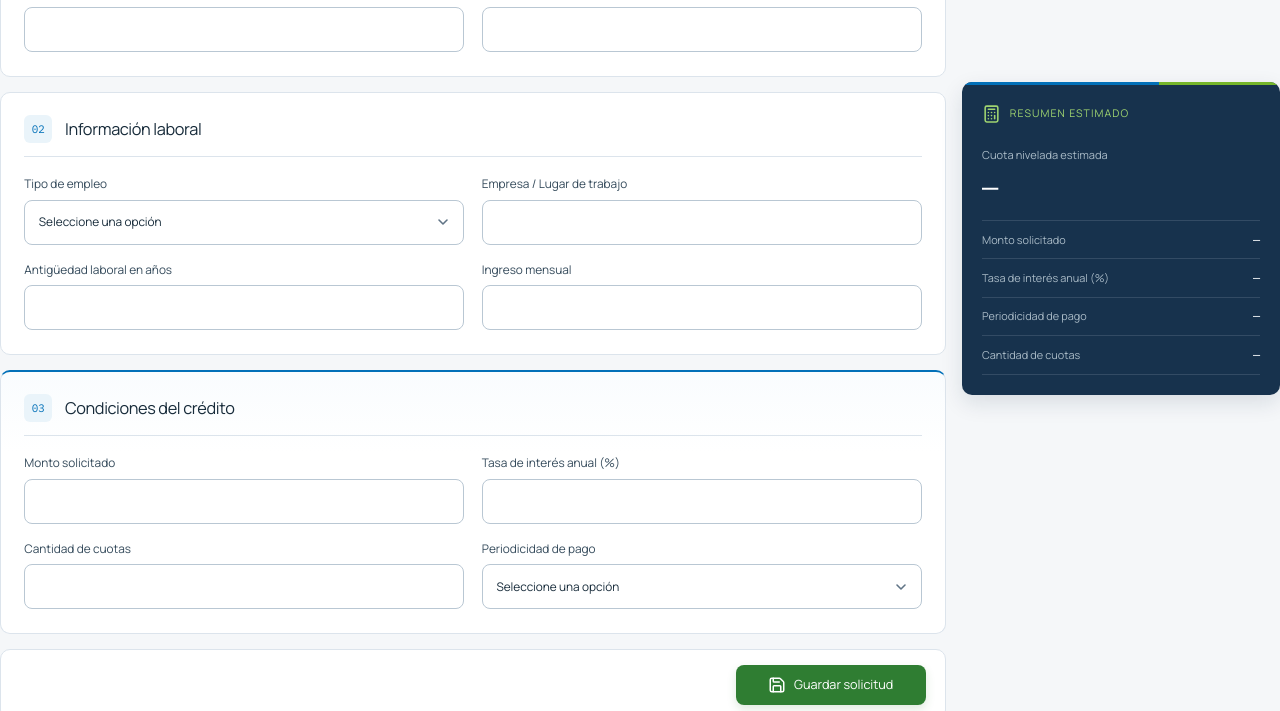
Test: validation errors clear after correction › relocalizes an existing birth date error when switching ES to EN and back
(page scrolled)
Step 1. Click the button "Guardar solicitud" → (831, 685), box [736,665,926,705]
(page scrolled)
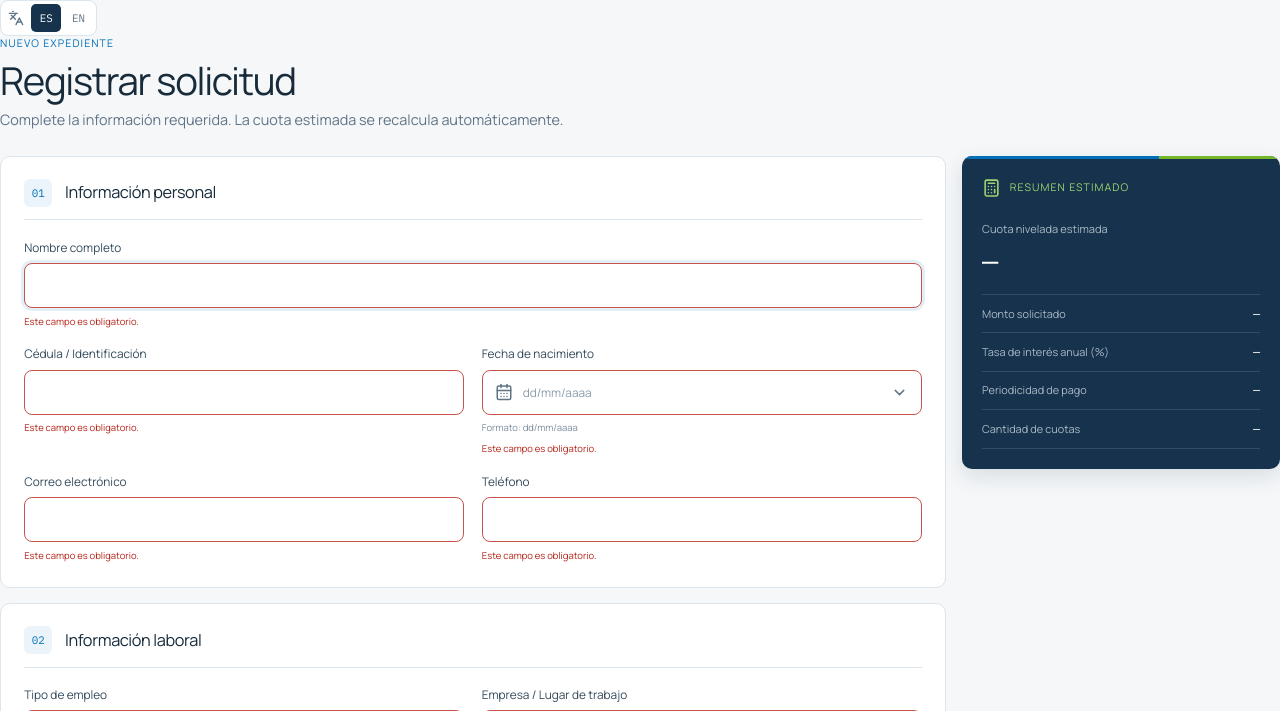
Expected: the text with id "birth-date-error" reads "Este campo es obligatorio.", [482,442,596,455]
Step 2. Click the button "EN" → (79, 18), box [64,4,94,32]
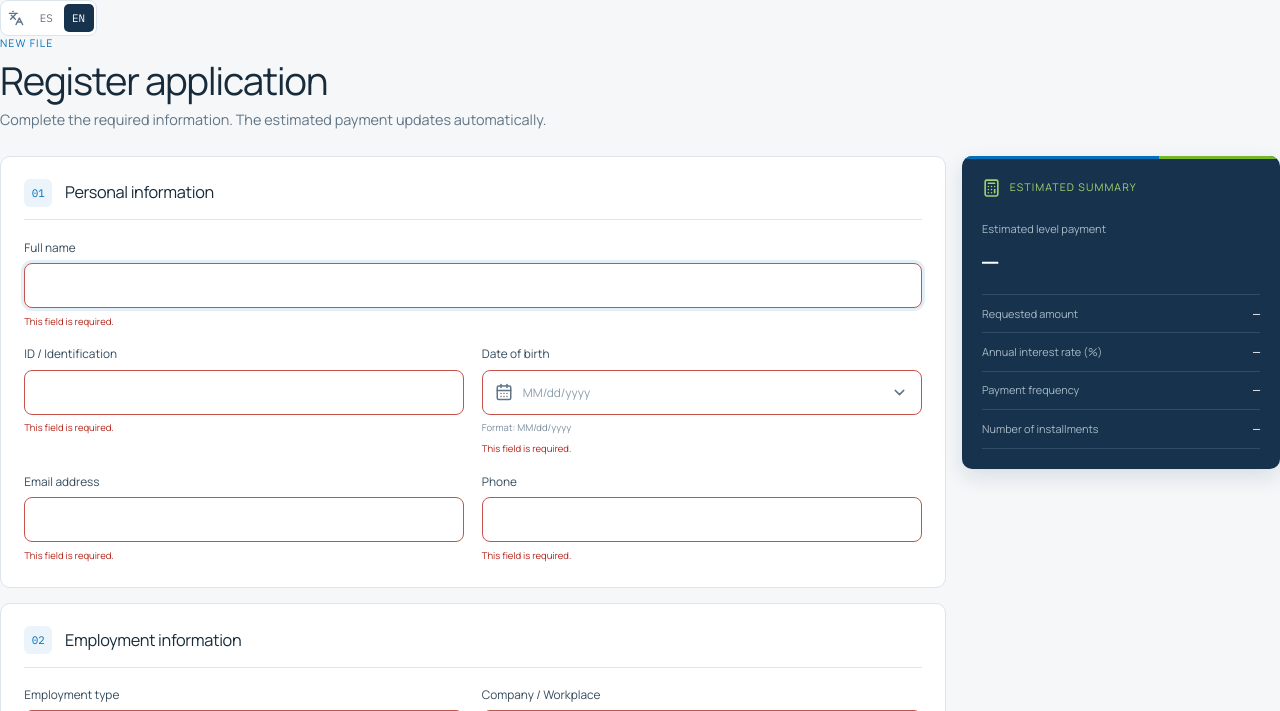
Expected: the text with id "birth-date-error" reads "This field is required.", [482,442,571,455]
Step 3. Click the button "ES" → (46, 18), box [31,4,61,32]
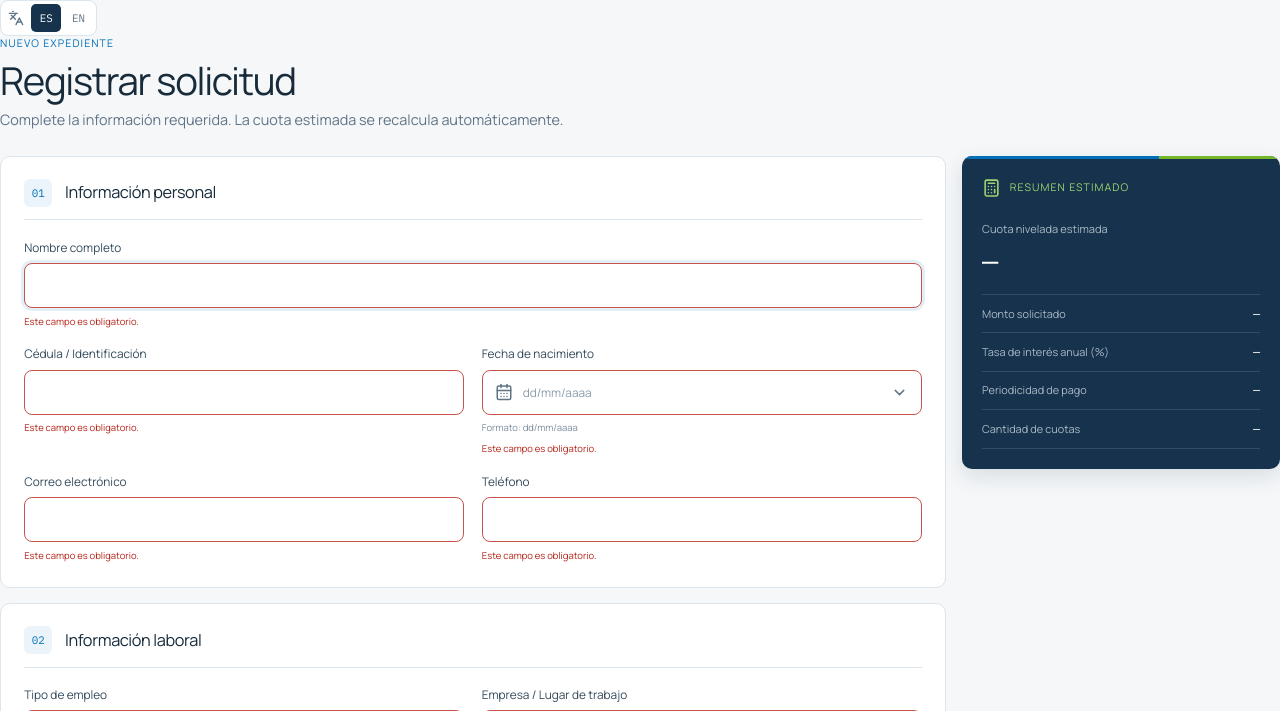
Expected: the text with id "birth-date-error" reads "Este campo es obligatorio.", [482,442,596,455]
